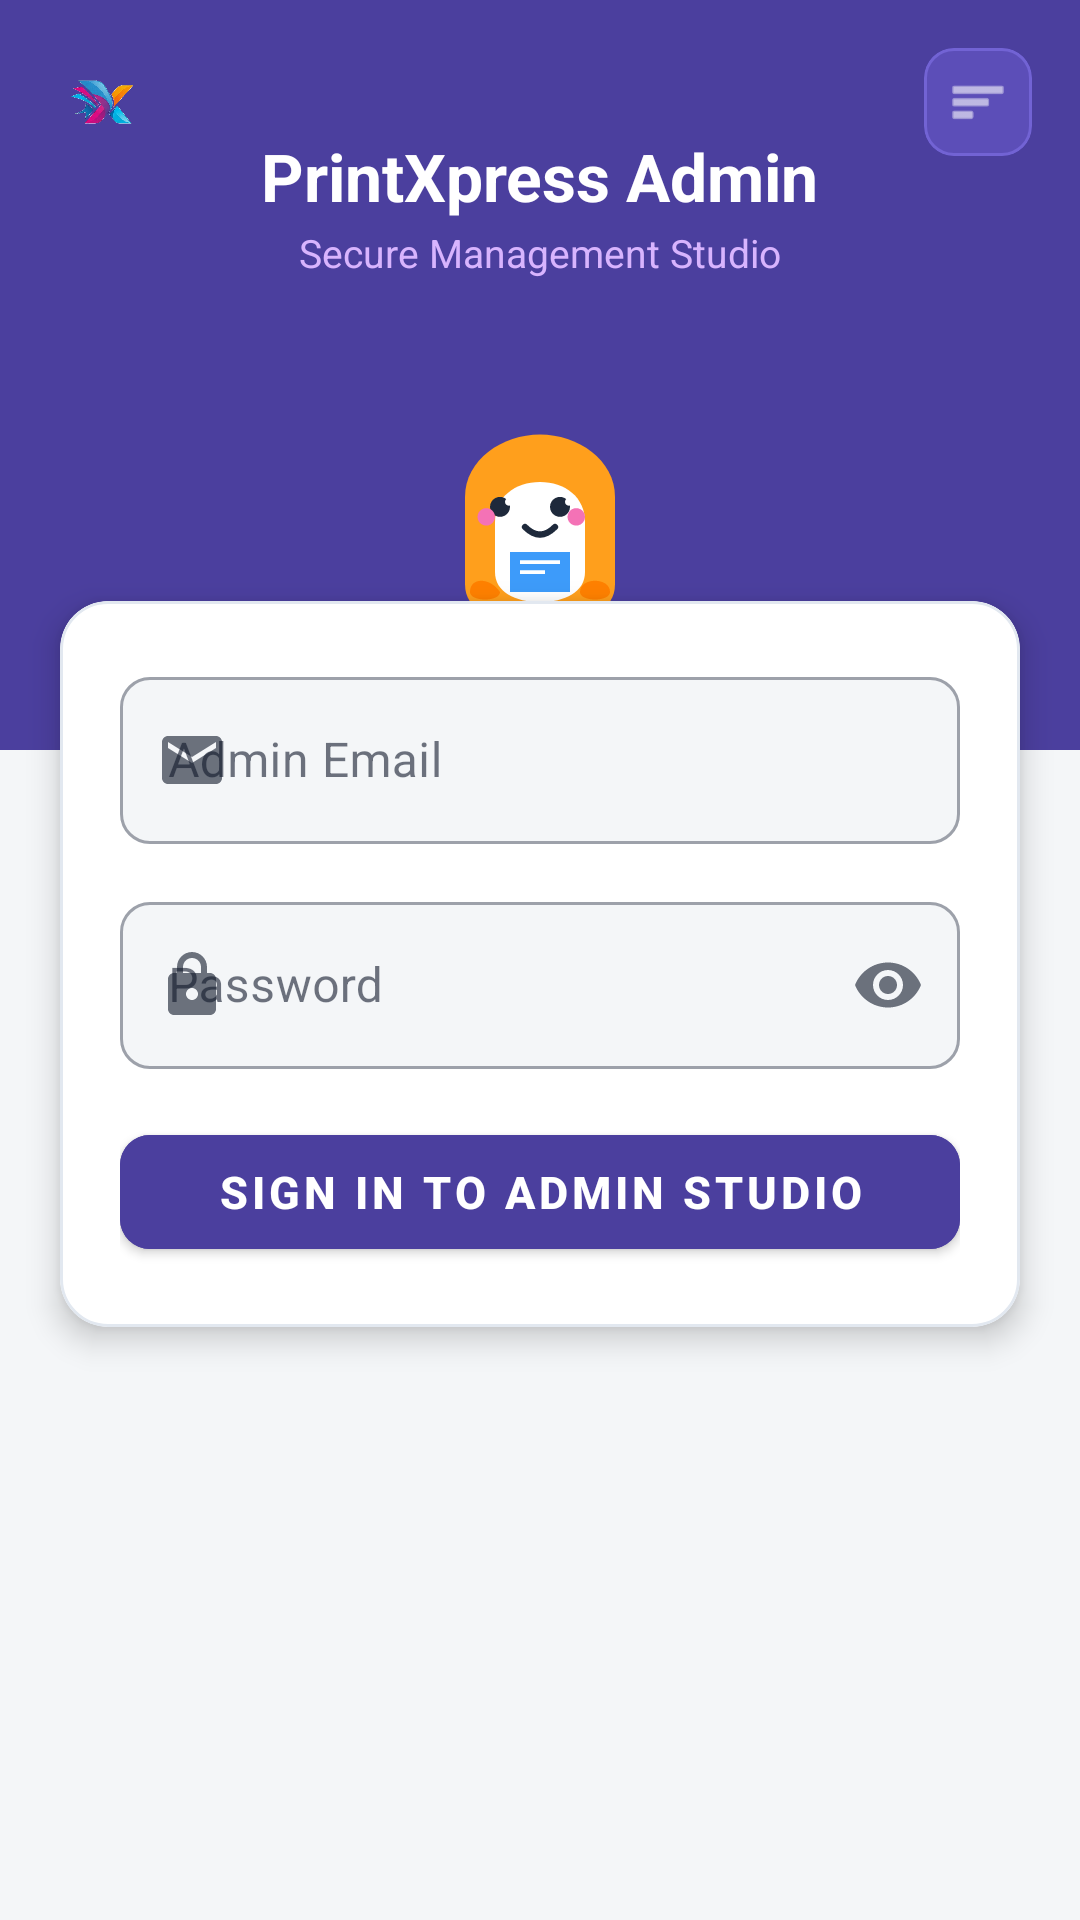

Where icons sit on this 1080 × 1920 app screen, as (x1, y1, x2, y2):
Menu Button: (952, 86, 1004, 119)
